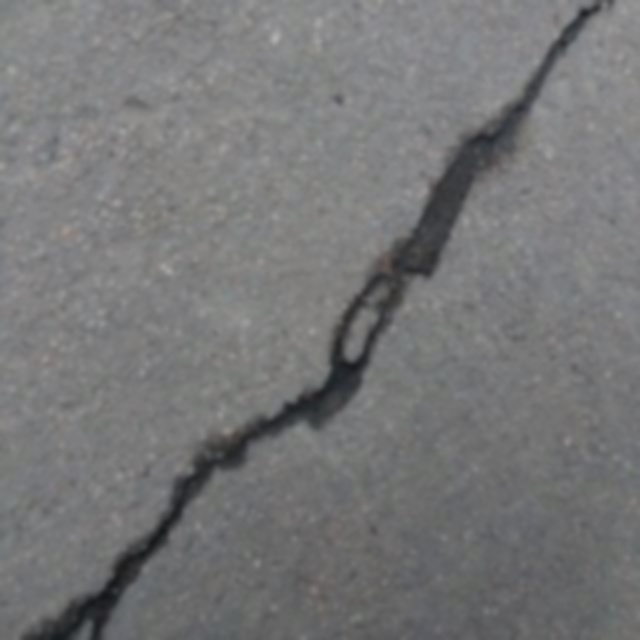SurfaceCrack: (8, 6, 626, 640)
